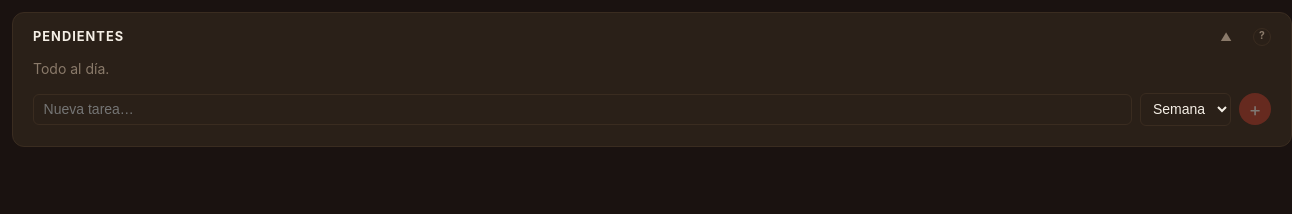
Test: TodosSection › adds a new todo optimistically on successful POST
The image size is (1292, 214).
Type "nueva tarea" into the field with placeholder "Nueva tarea…".
click(582, 109); type("nueva tarea")  # box [33,94,1132,125]
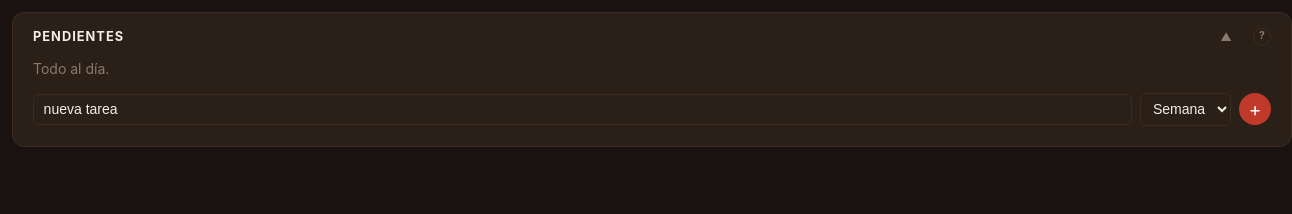
Submit the form with placeholder "Nueva tarea…", box [33,93,1271,126]
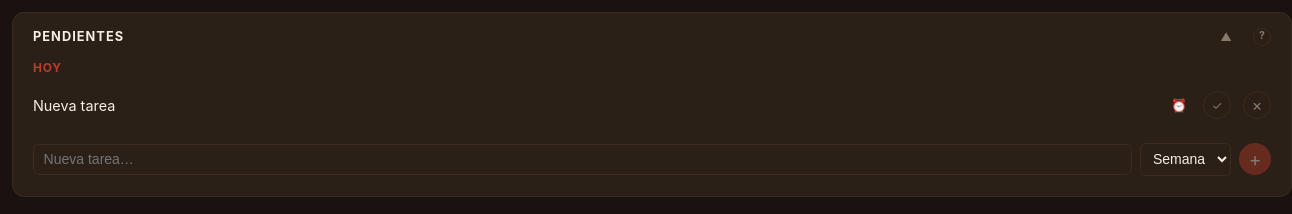
Check: the text "Nueva tarea" is shown, box [33,96,115,114]
